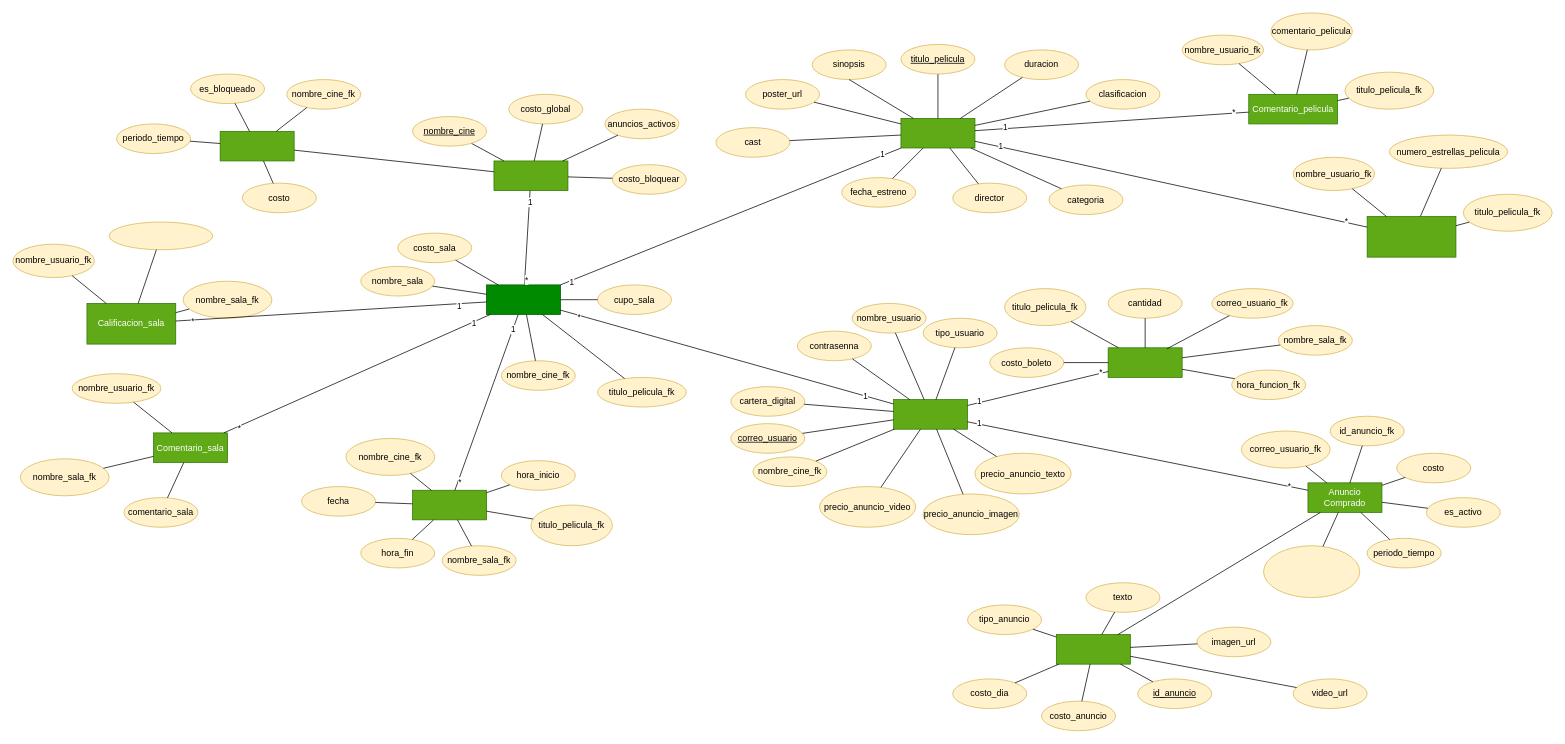
The diagram is 1565 pixels wide and 744 high, and some of its shapes have lost their labels. The box of each missing label's shape, as (x1, y1, x2, y2) in pixels:
Anuncio: (1056, 634, 1130, 664)
Anuncio Bloqueado: (219, 131, 294, 161)
Boleto: (1107, 347, 1182, 377)
Calificacion_pelicula: (1366, 216, 1456, 257)
Cine: (493, 160, 568, 191)
Funcion: (412, 490, 487, 520)
id_anuncio_comprado: (1263, 545, 1360, 598)
numero_estrellas_sala: (108, 221, 213, 250)
Pelicula: (900, 118, 975, 148)
Sala: (486, 284, 561, 314)
Usuario: (893, 399, 968, 429)
